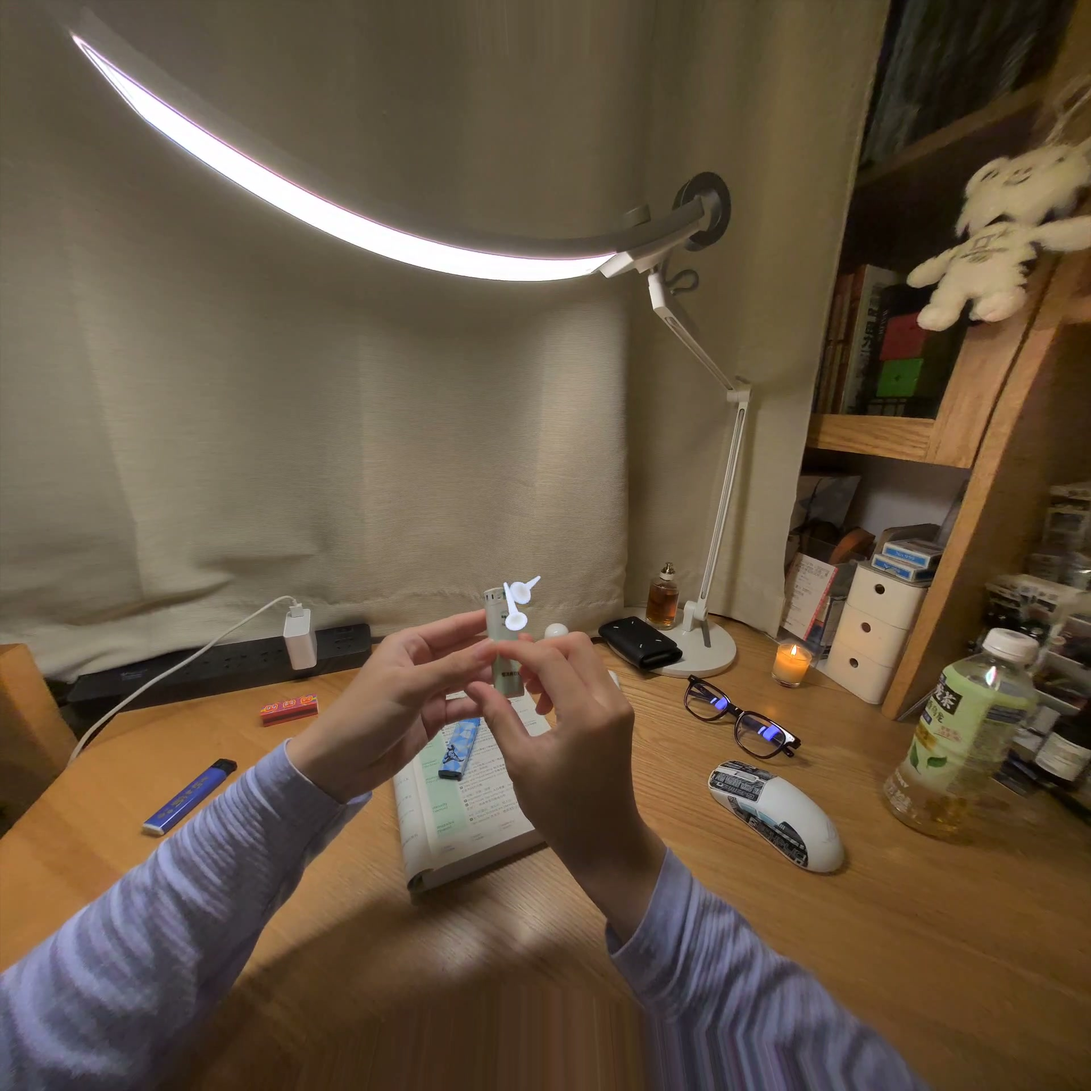lighter: (484, 585, 519, 642)
